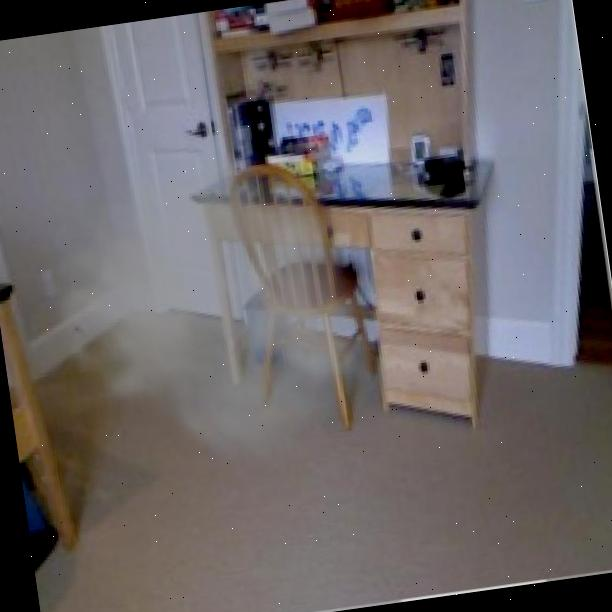smoke: (0, 97, 396, 507)
